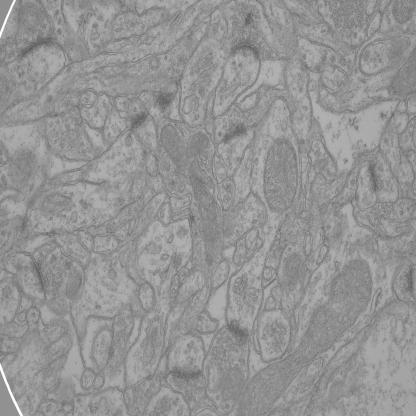mitochondria: (236, 259, 380, 416), (264, 133, 298, 214)
